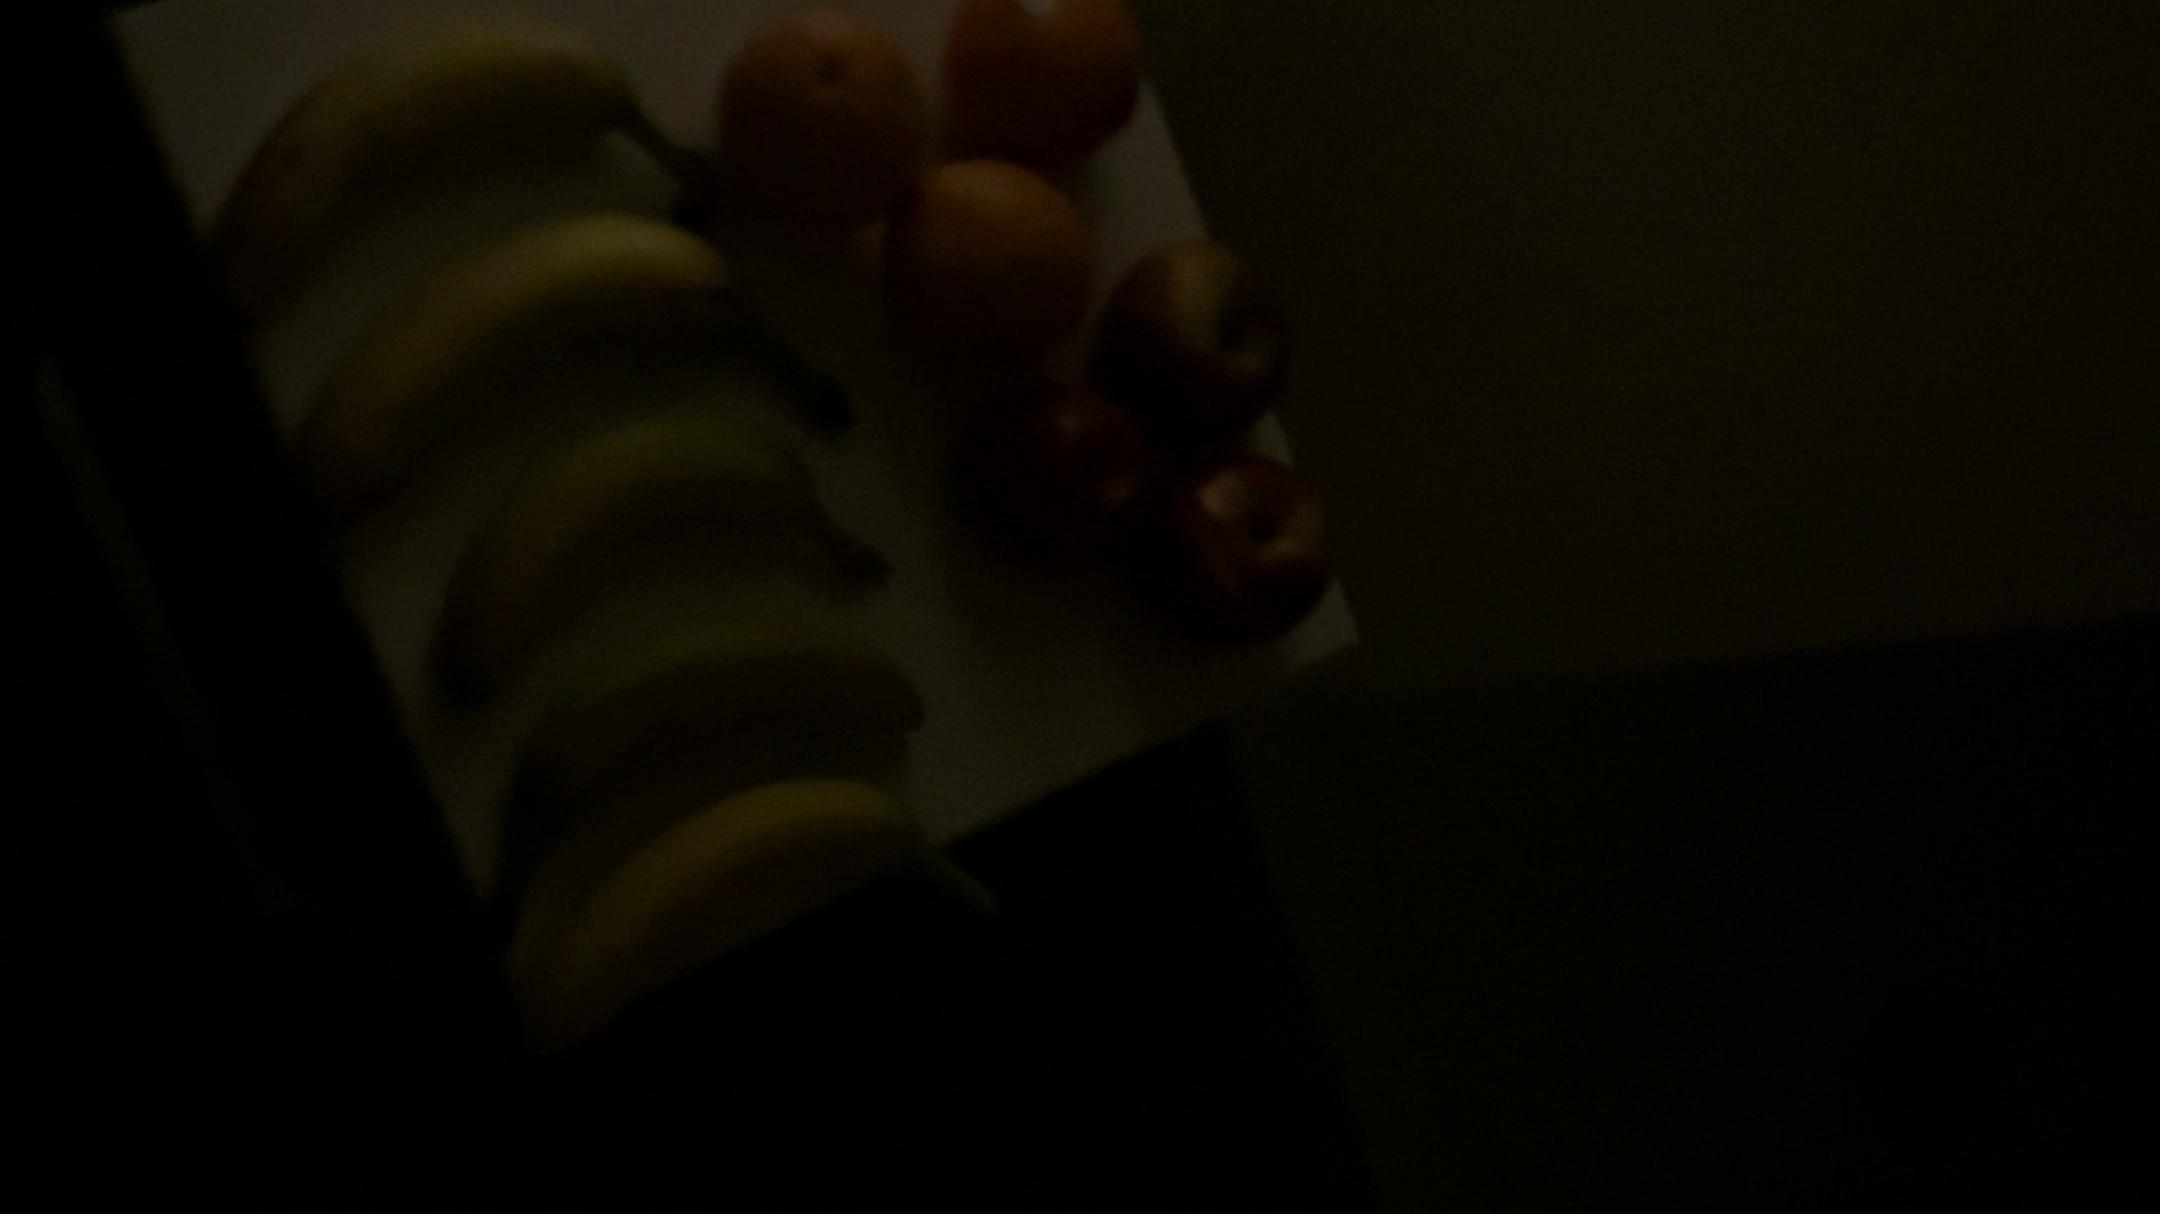apple: (1127, 427, 1362, 643), (1084, 232, 1303, 447), (963, 364, 1168, 574)
banana: (387, 402, 955, 686), (285, 237, 849, 508), (181, 36, 742, 269), (445, 626, 975, 831), (543, 784, 994, 1023)
orange: (709, 13, 955, 227), (887, 141, 1098, 352), (944, 7, 1173, 175)
